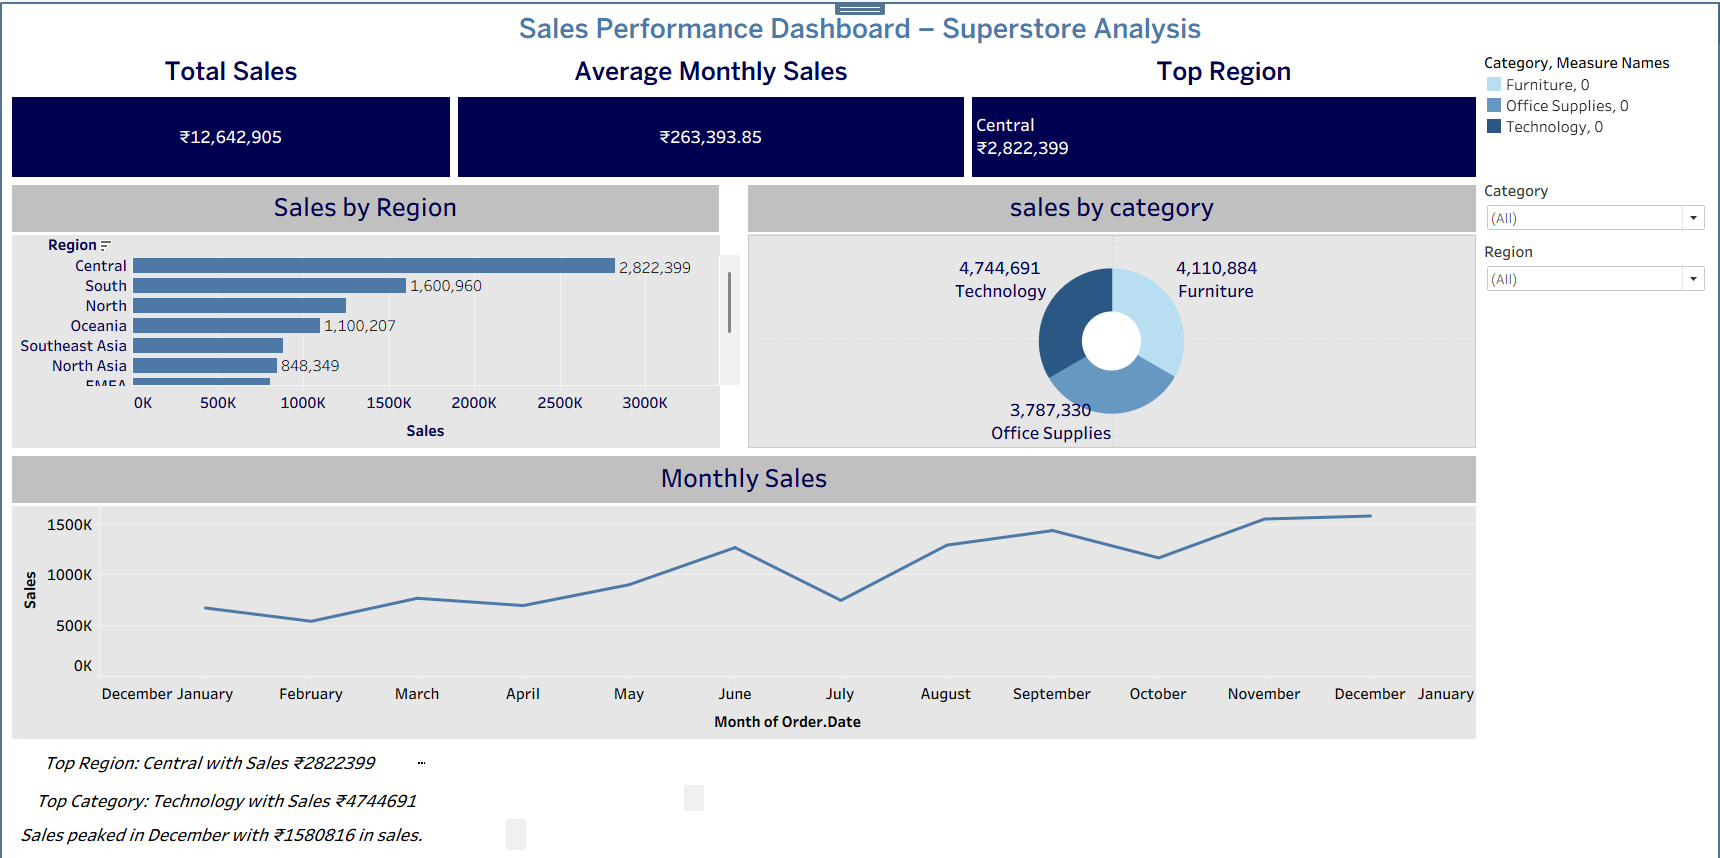

This screenshot's page, from the dashboard's own definition file:
{"tool":"tableau","page":{"name":"Sales Performance Dashboard","canvas":[1000,1000],"units":"permille","ordinal":0},"visuals":[{"type":"text","box":[4.9,9.5,990.1,43.9]},{"type":"worksheet","title":"total sales","mark":"Automatic","box":[4.9,53.3,256.8,154.9]},{"type":"worksheet","title":"average monthly sales","mark":"Automatic","box":[261.7,53.3,295.6,154.9]},{"type":"worksheet","title":"Sheet 6","mark":"Automatic","rows":["Region"],"box":[557.3,53.3,294.6,154.9]},{"type":"legend","title":"sales by category","param":"[federated.1h6chzr0tujgbi18h72b700uco5w].[none:Category:nk]\n[federated.1h6chzr0t","box":[851.9,53.3,143.2,123.1]},{"type":"legend","title":"sales by region","param":"[federated.1h6chzr0tujgbi18h72b700uco5w].[usr:Calculation_2326390712401551387:qk","box":[851.9,176.4,143.2,28.4]},{"type":"filter","title":"sales by region","param":"[federated.1h6chzr0tujgbi18h72b700uco5w].[none:Category:nk]","box":[851.9,204.8,143.2,72.2]},{"type":"worksheet","title":"sales by region","mark":"Automatic","rows":["Region"],"cols":["Sales"],"box":[4.9,208.2,423.4,315.3]},{"type":"worksheet","title":"sales by category","mark":"Pie","rows":["Calculation_1221601419425439745","Calculation_1221601419426037765"],"cols":["Calculation_1221601419425452035"],"box":[428.3,208.2,423.6,315.3]},{"type":"filter","title":"sales by region","param":"[federated.1h6chzr0tujgbi18h72b700uco5w].[none:Region:nk]","box":[851.9,277,143.2,85.2]},{"type":"worksheet","title":"Monthly Sales","mark":"Automatic","rows":["Sales"],"cols":["Order.Date"],"box":[4.9,523.5,846.9,338.5]},{"type":"worksheet","title":"Sheet 8","mark":"Automatic","box":[4.9,862.1,846.9,43.3]},{"type":"worksheet","title":"Sheet 9","mark":"Automatic","box":[4.9,905.3,990.1,40.2]},{"type":"worksheet","title":"Sheet 10","mark":"Automatic","box":[4.9,945.6,990.1,45]}]}

Visuals, with their boxes on the dashboard's canvas, which has no fixed pixel size, in thousandths of its width and height (x1, y1, x2, y2). These are canvas units, not pixel positions in the 1720x858 screenshot, which may show the page scaled, cropped or inside an application window:
text: x1=5 y1=10 x2=995 y2=53
"total sales" worksheet: x1=5 y1=53 x2=262 y2=208
"average monthly sales" worksheet: x1=262 y1=53 x2=557 y2=208
"Sheet 6" worksheet: x1=557 y1=53 x2=852 y2=208
"sales by category" legend: x1=852 y1=53 x2=995 y2=176
"sales by region" legend: x1=852 y1=176 x2=995 y2=205
"sales by region" filter: x1=852 y1=205 x2=995 y2=277
"sales by region" worksheet: x1=5 y1=208 x2=428 y2=524
"sales by category" worksheet (Pie marks): x1=428 y1=208 x2=852 y2=524
"sales by region" filter: x1=852 y1=277 x2=995 y2=362
"Monthly Sales" worksheet: x1=5 y1=524 x2=852 y2=862
"Sheet 8" worksheet: x1=5 y1=862 x2=852 y2=905
"Sheet 9" worksheet: x1=5 y1=905 x2=995 y2=946
"Sheet 10" worksheet: x1=5 y1=946 x2=995 y2=991
